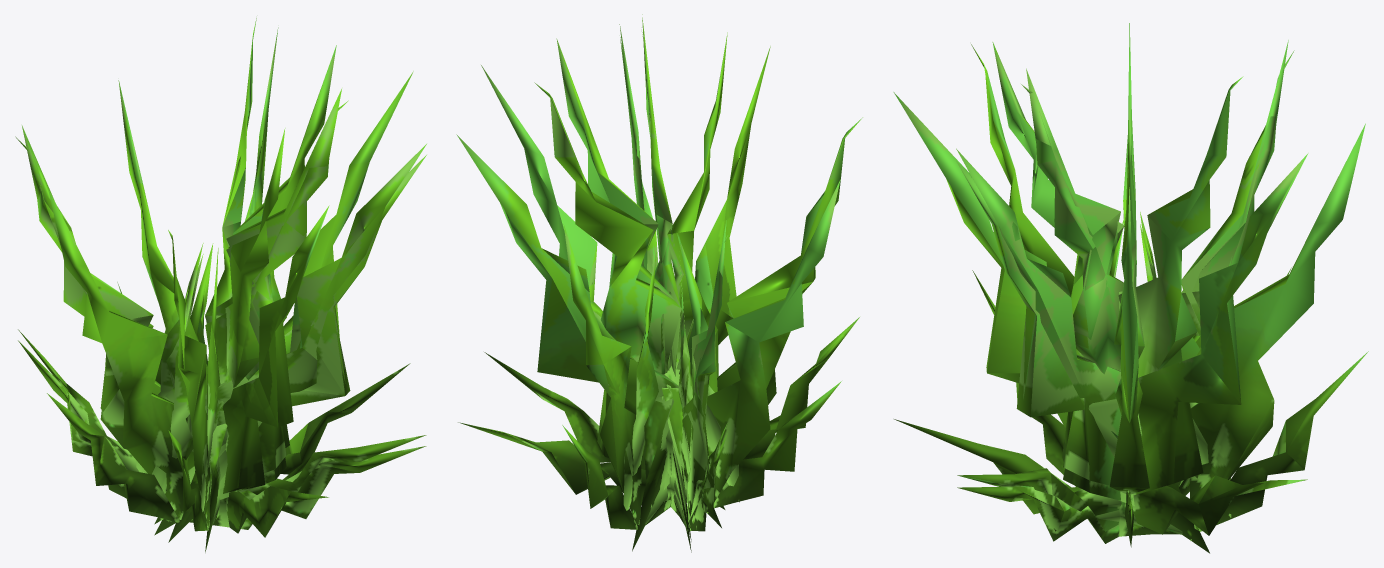
The model's file is algas.fbx.
The picture shows the model from 3 angles, left to right: view 1: azimuth 30°, elevation 25°; view 2: azimuth 150°, elevation 25°; view 3: azimuth 270°, elevation 25°; orthographic projection. The views are drawn at different scales.
Parts seen in each view (by area): view 1: Cube.004; view 2: Cube.004; view 3: Cube.004.
Boxes of the visible parts, x1,y1,x2,y2 form: Cube.004: (15, 18, 426, 552); Cube.004: (456, 14, 862, 552); Cube.004: (893, 23, 1368, 553).
Bounding box in the file's own units: 366 × 446 × 367.
Materials: 1 (1 with a texture image).
